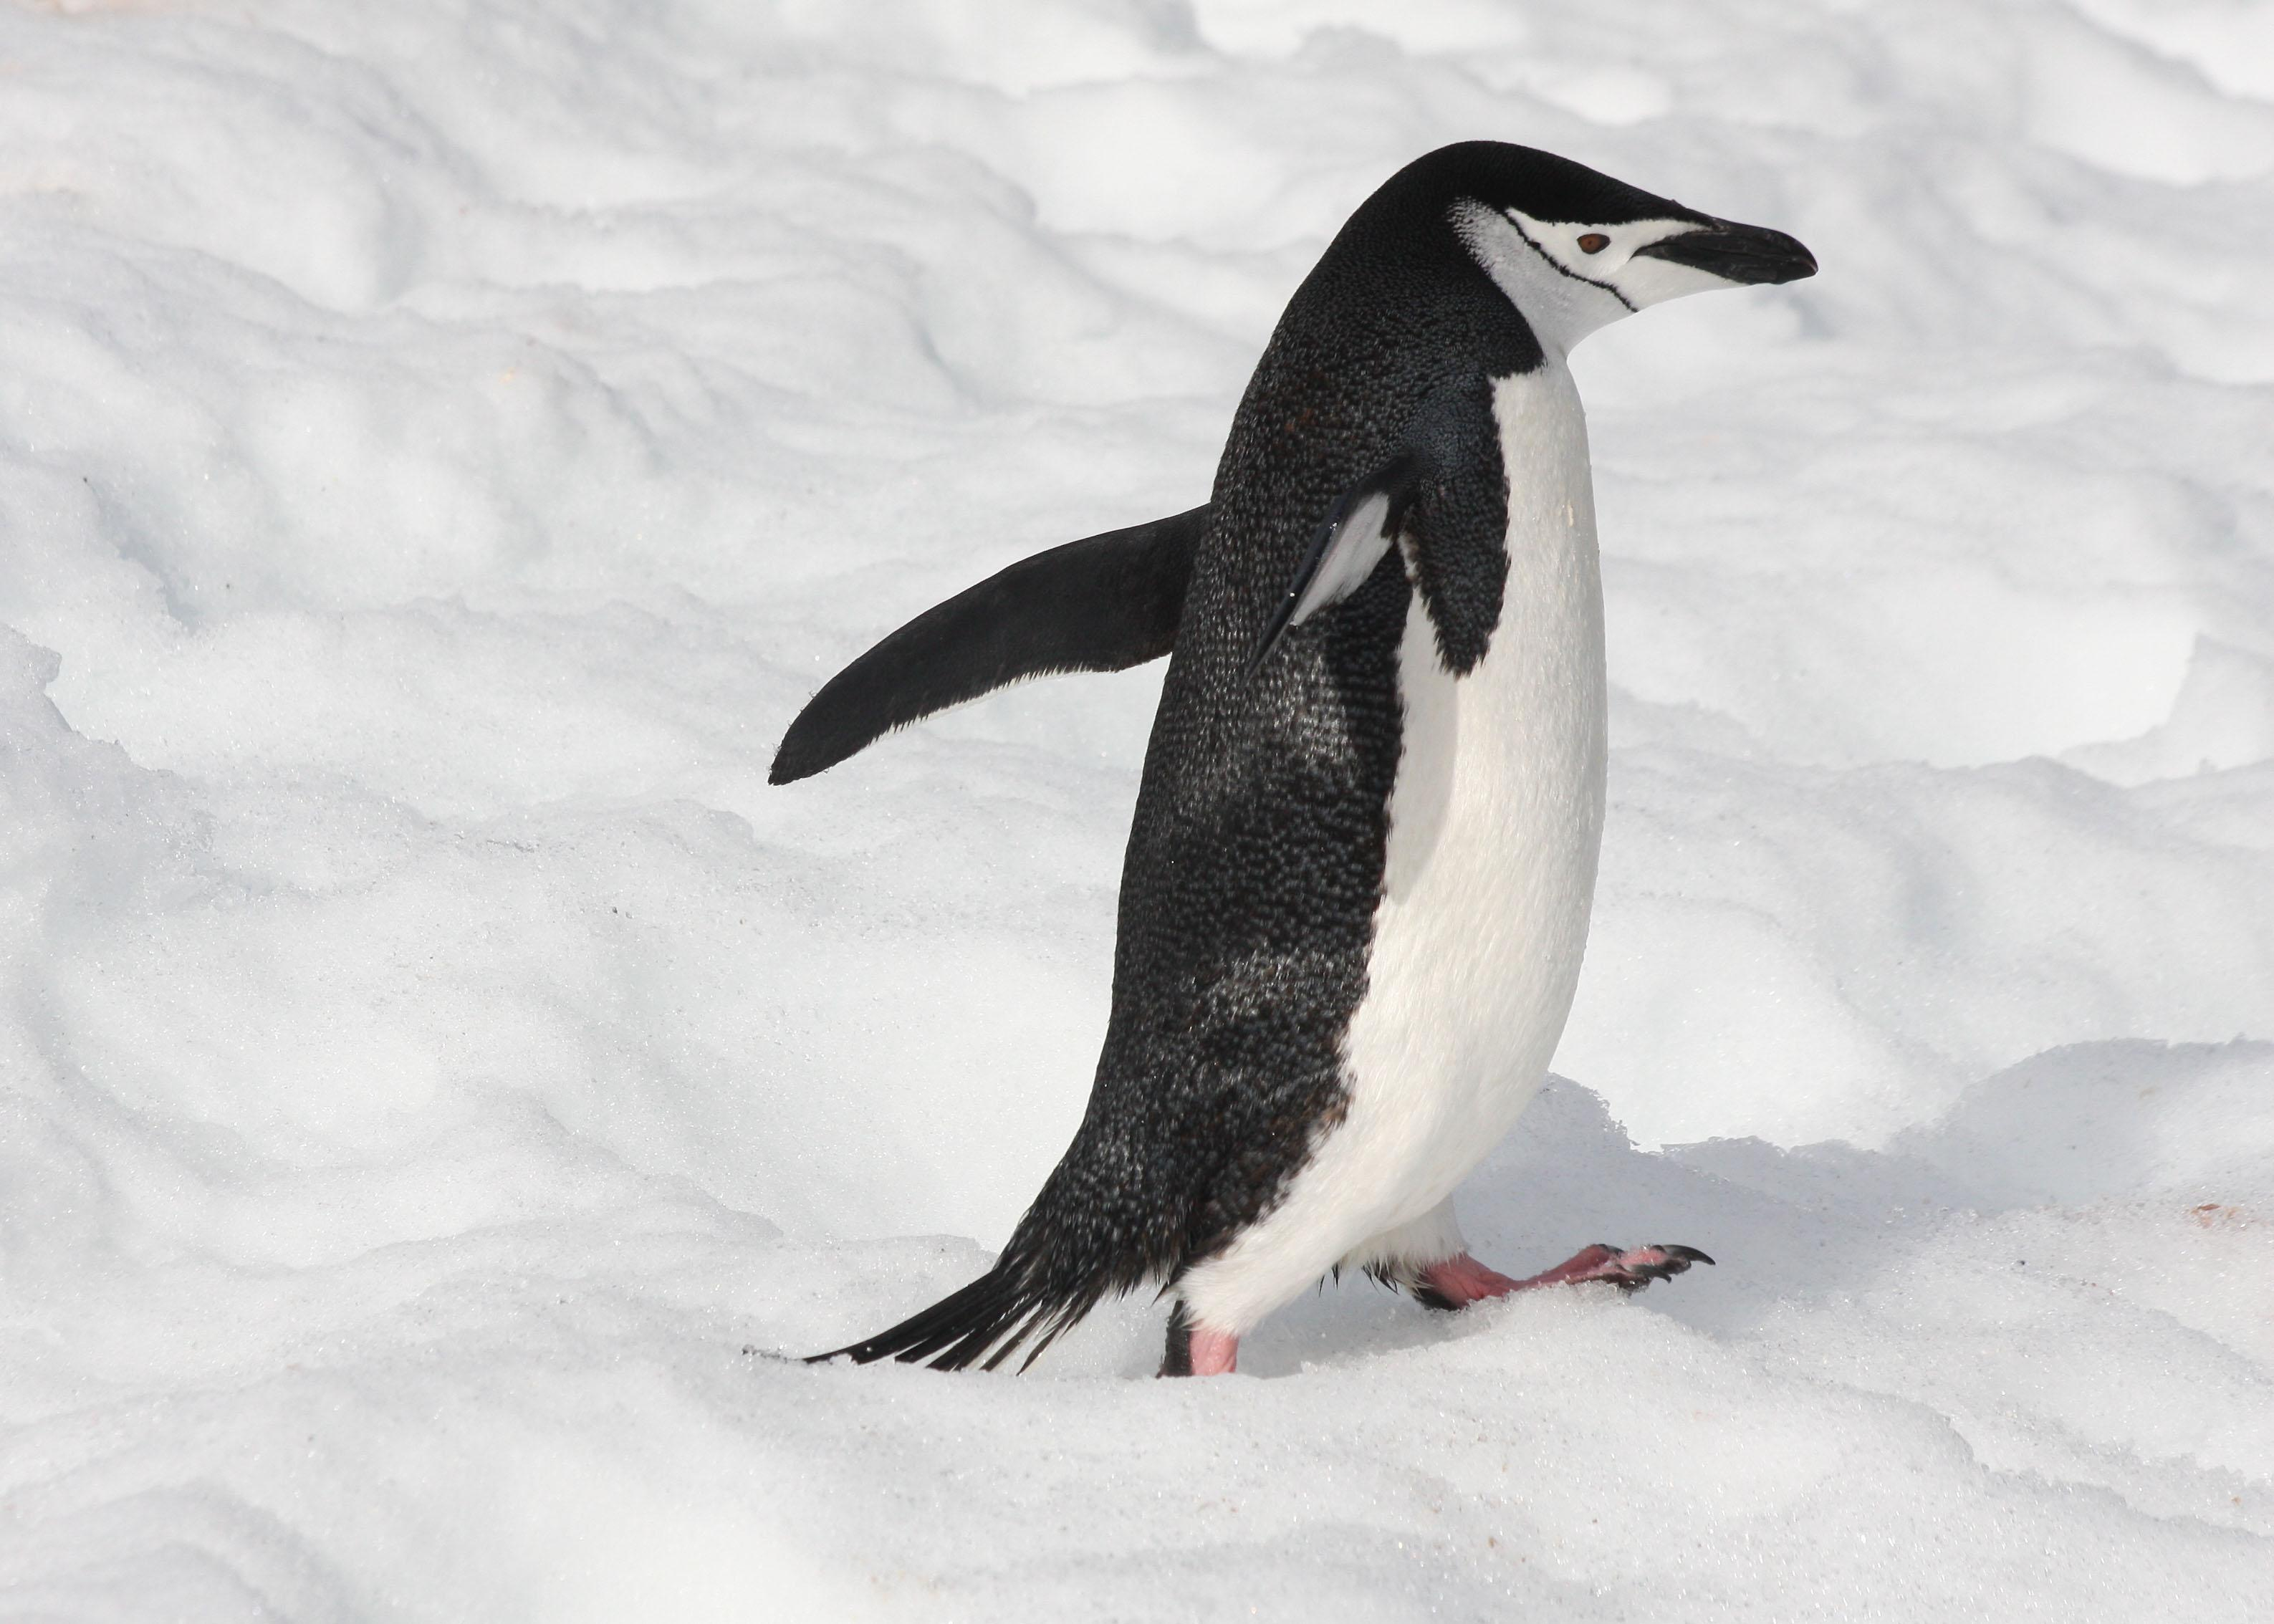chinstrap: (675, 65, 1819, 1473)
